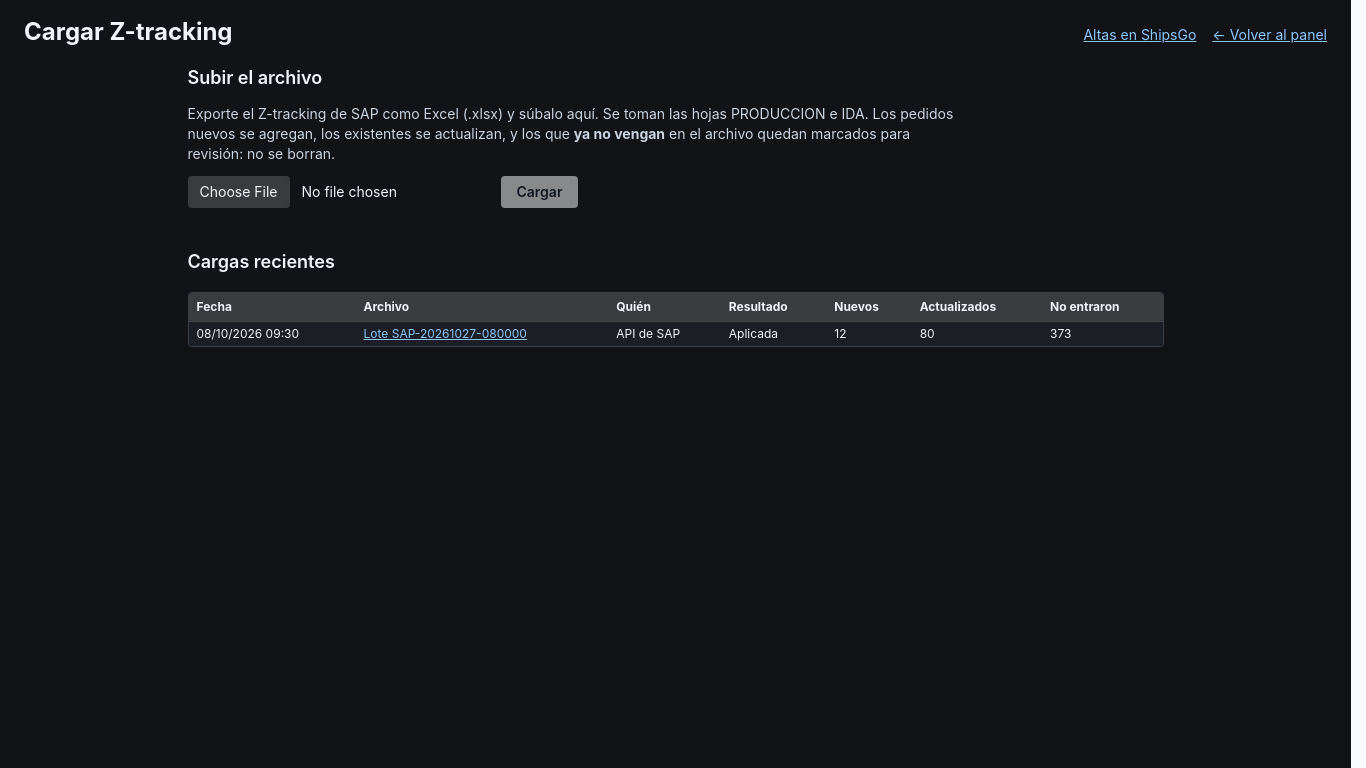
historial › un lote de la API de SAP figura como tal, sin persona (US-65)
The image size is (1366, 768).
Expected: the text "API de SAP" is shown, [608, 322, 721, 346]
Click the button "Lote SAP-20261027-080000": (445, 334) [364, 326, 527, 342]
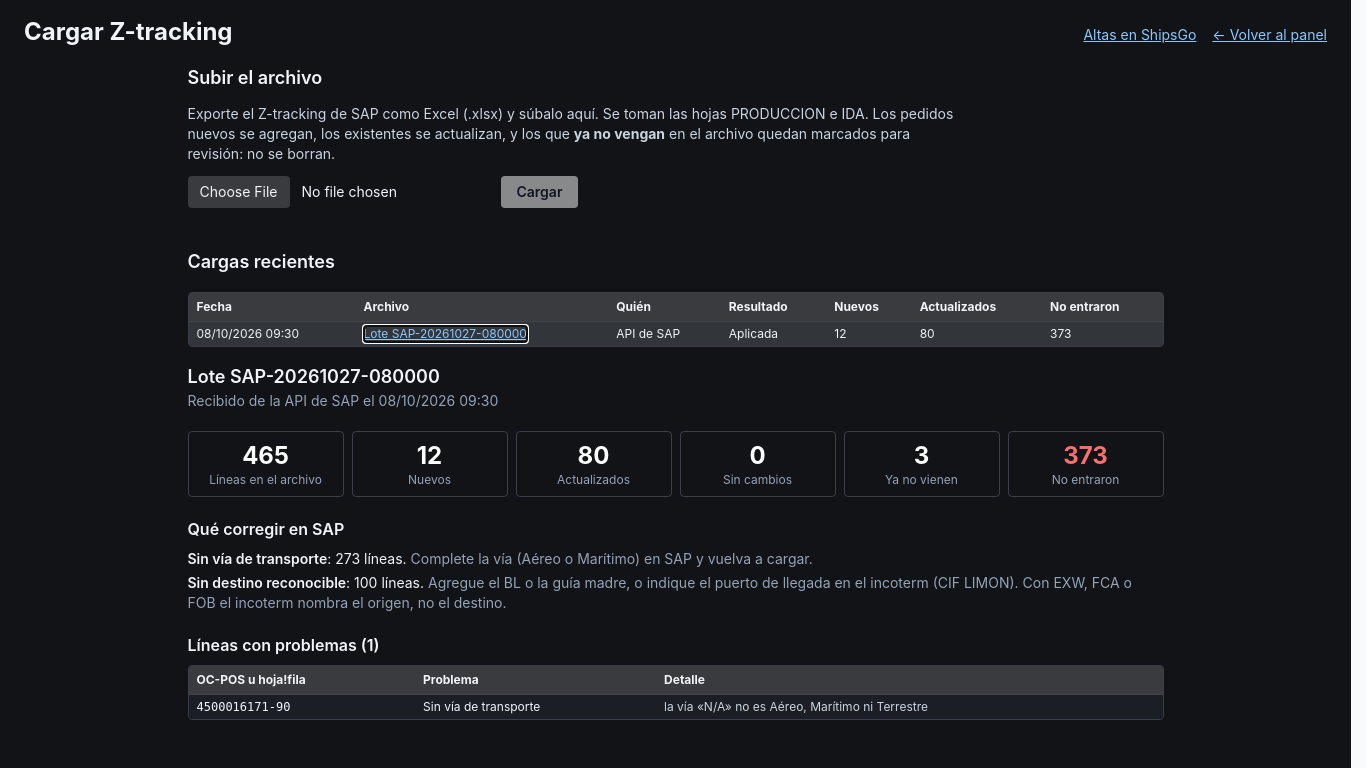
Result: the text "Recibido de la API de SAP el 08/10/2026 09:30" is shown at [188, 392, 498, 409]
